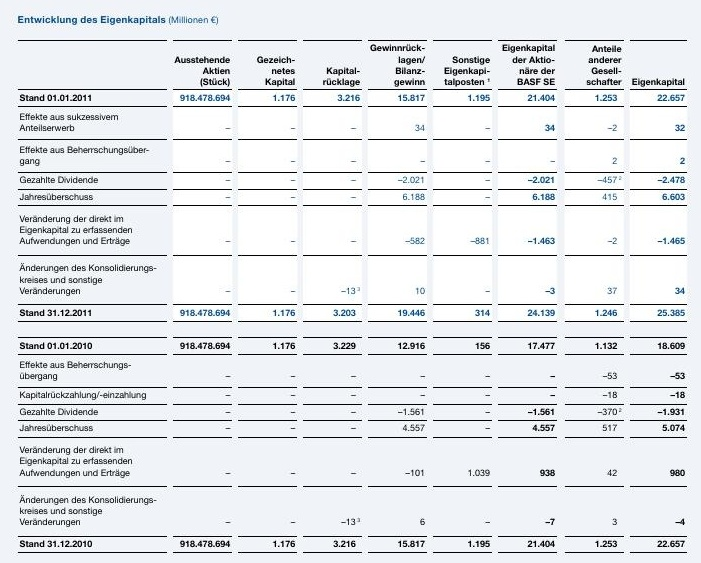table: (0, 0, 701, 563)
